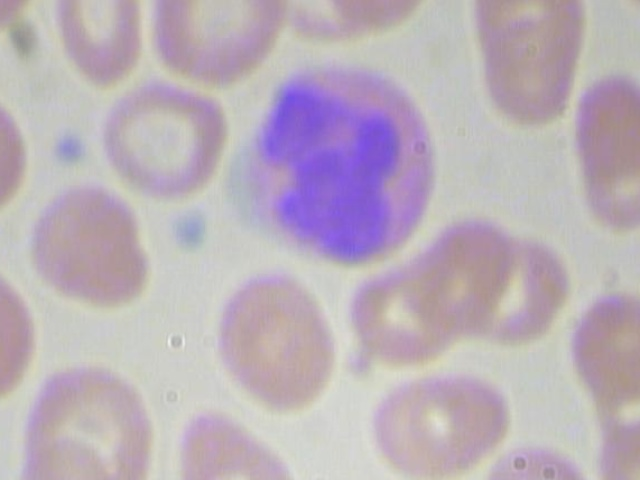Platelets: (161, 205, 222, 264), (51, 130, 87, 170)
RBC: (205, 262, 341, 422), (24, 170, 153, 317), (365, 357, 518, 480), (94, 80, 234, 204), (144, 0, 292, 90), (568, 62, 640, 240), (176, 401, 311, 480), (50, 0, 147, 86), (0, 256, 46, 411), (0, 91, 37, 226), (0, 0, 34, 45)
WBC: (235, 51, 457, 269)
